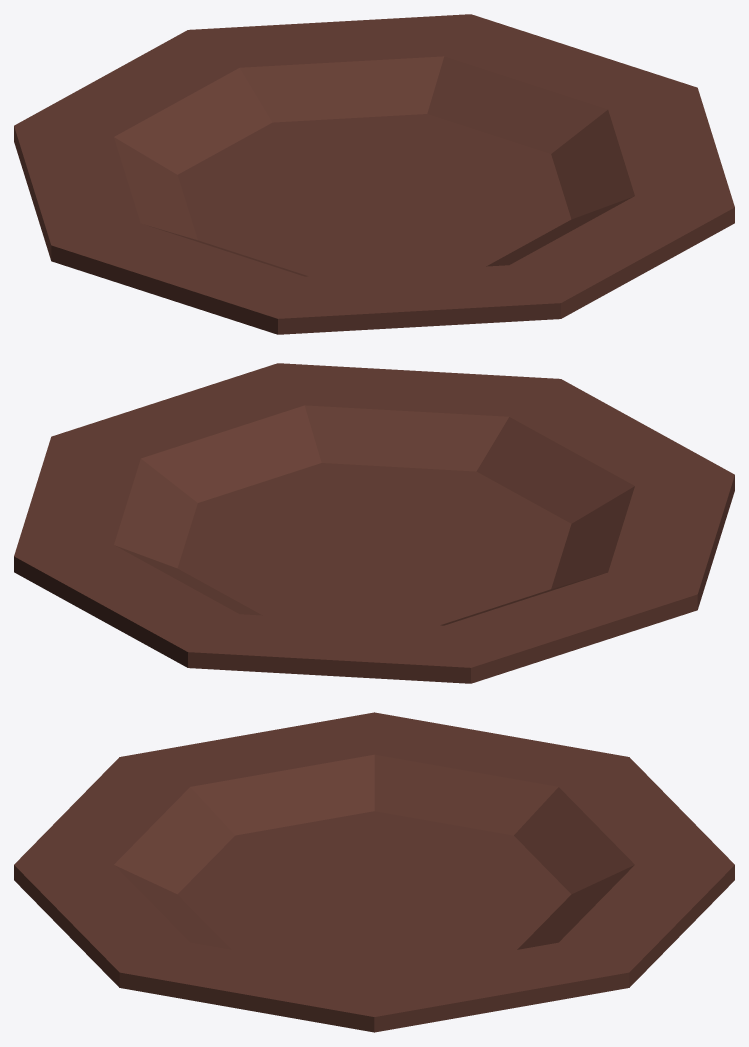
The model's file is plate.fbx.
3 views of the same model, one above another, from view 1: azimuth 30°, elevation 25°; view 2: azimuth 150°, elevation 25°; view 3: azimuth 270°, elevation 25° (orthographic). The views are drawn at different scales.
Visible parts, largest first — view 1: Spagethi_&_Meatballs.001; view 2: Spagethi_&_Meatballs.001; view 3: Spagethi_&_Meatballs.001.
Boxes of the visible parts, x1,y1,x2,y2 form: Spagethi_&_Meatballs.001: (14,14,734,334); Spagethi_&_Meatballs.001: (14,363,734,683); Spagethi_&_Meatballs.001: (14,712,734,1032).
Size of the model in its own units: 312 by 21.5 by 312.
